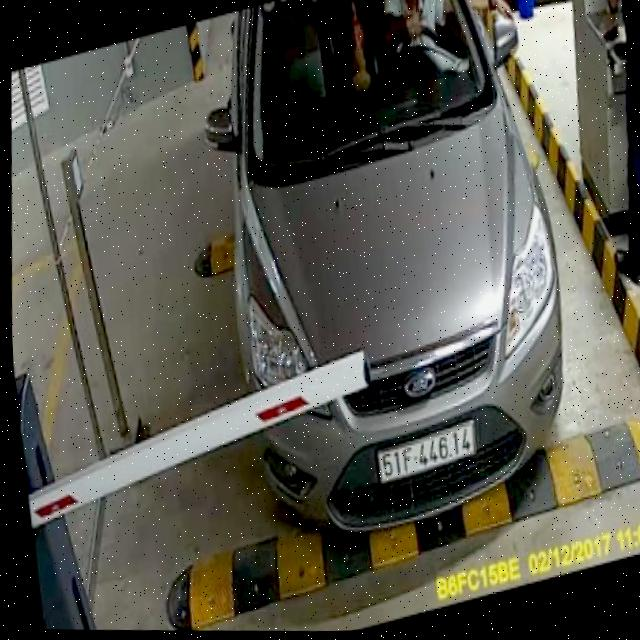car: (178, 0, 586, 552)
plate: (374, 413, 481, 491)
